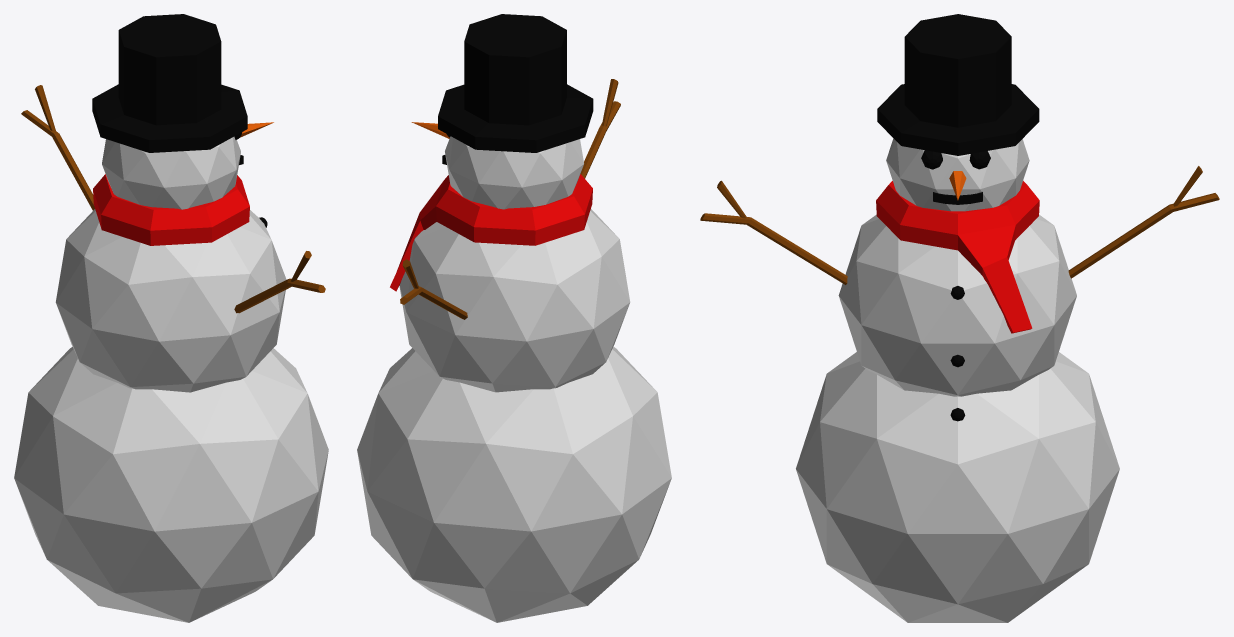
The model's file is Snowman V2.fbx.
3 views of the same model, side by side, from view 1: azimuth 30°, elevation 25°; view 2: azimuth 150°, elevation 25°; view 3: azimuth 270°, elevation 25° (orthographic).
Parts seen in each view (by area): view 1: SnowmanV2; view 2: SnowmanV2; view 3: SnowmanV2.
Part boxes in pixels (x1,y1,x2,y2): SnowmanV2: [14, 14, 328, 622]; SnowmanV2: [357, 14, 671, 622]; SnowmanV2: [700, 14, 1219, 622].
Size of the model in its own units: 114 by 236 by 192.
